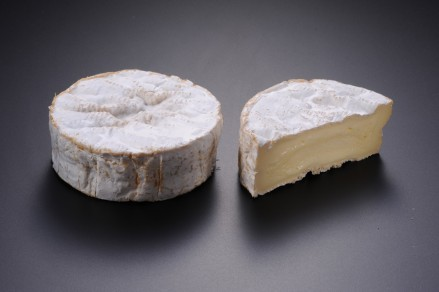camembert: (47, 68, 223, 204), (236, 78, 395, 199)
